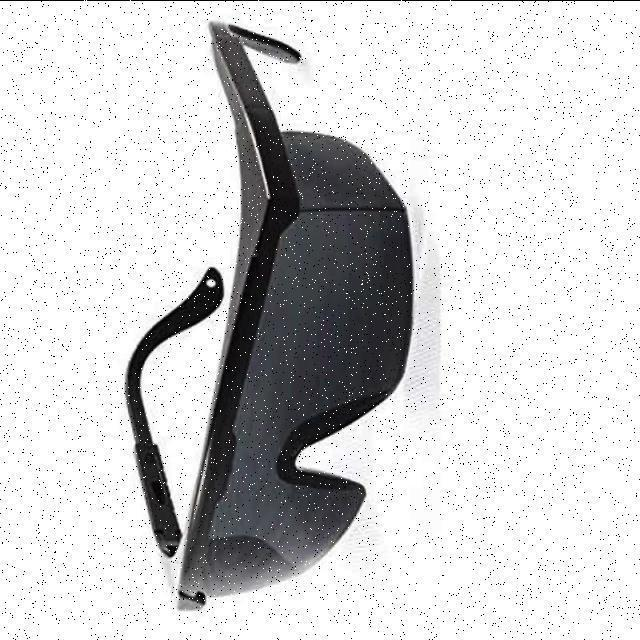Goggles: (121, 6, 416, 619)
